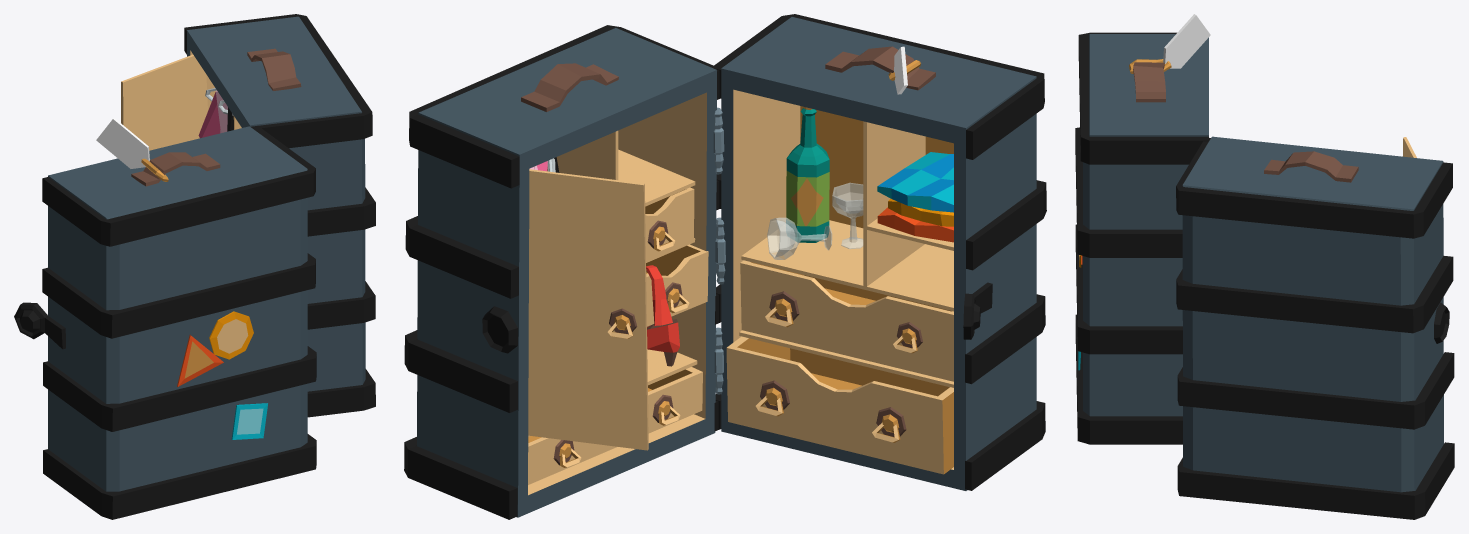
Rendered from collectibles-louis-vuitton-trunk-a22033d9f9.glb.
3 views of the same model, side by side, from view 1: azimuth 30°, elevation 25°; view 2: azimuth 150°, elevation 25°; view 3: azimuth 270°, elevation 25° (orthographic). The views are drawn at different scales.
Parts seen in each view (by area): view 1: group1799109090; view 2: group1799109090; view 3: group1799109090.
Boxes of the visible parts, x1,y1,x2,y2 form: group1799109090: (14, 14, 375, 519); group1799109090: (404, 14, 1046, 519); group1799109090: (1075, 14, 1454, 519).
Bounding box in the file's own units: 1.36 × 1.19 × 1.14.
